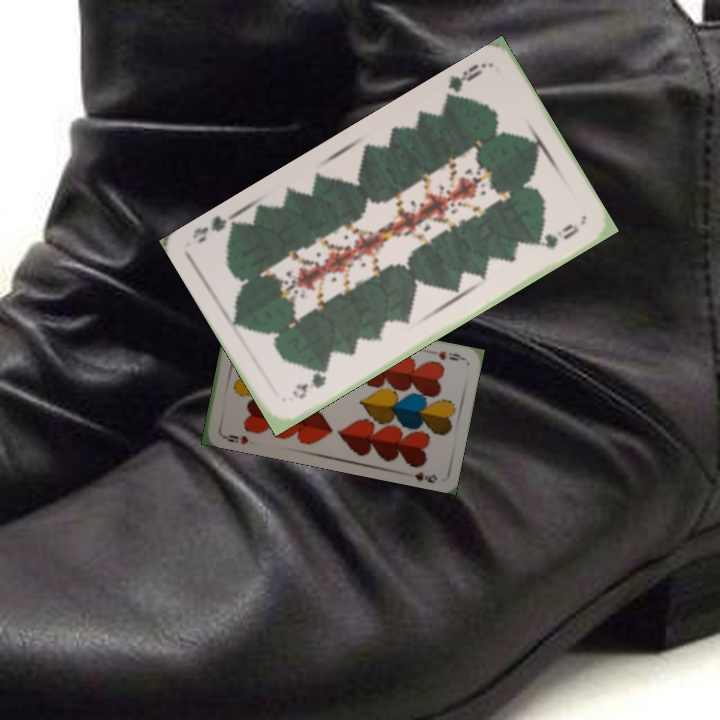G9: (441, 59, 489, 105), (288, 365, 331, 402)
H9: (218, 429, 251, 447), (434, 347, 467, 363)
